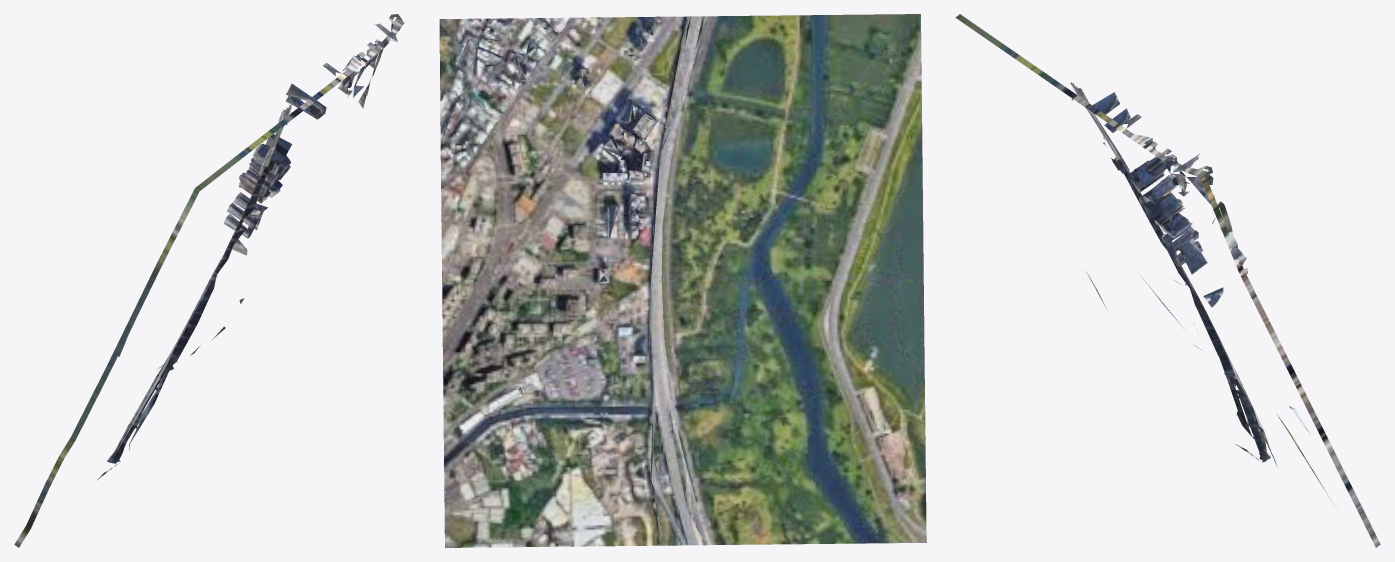
3 renders of one model, left to right at view 1: azimuth 30°, elevation 25°; view 2: azimuth 150°, elevation 25°; view 3: azimuth 270°, elevation 25°, orthographic. The views are drawn at different scales.
Bounding box in the file's own units: 1213 × 1136 × 1031.
Materials: 1 (1 with a texture image).
